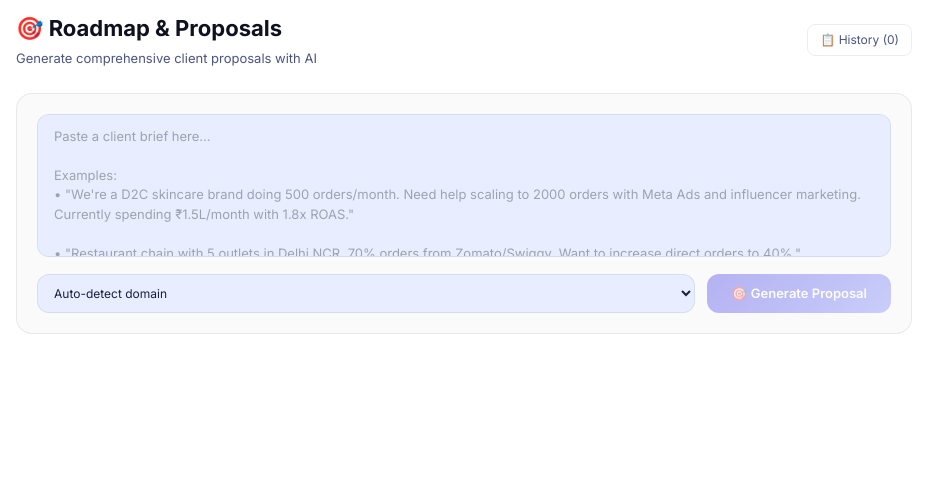
RoadmapTab › proposal generation › displays generated proposal output
Type "Test brief" into the text box with placeholder "Paste a client brief here" at (464, 185), box x1=37 y1=114 x2=891 y2=256
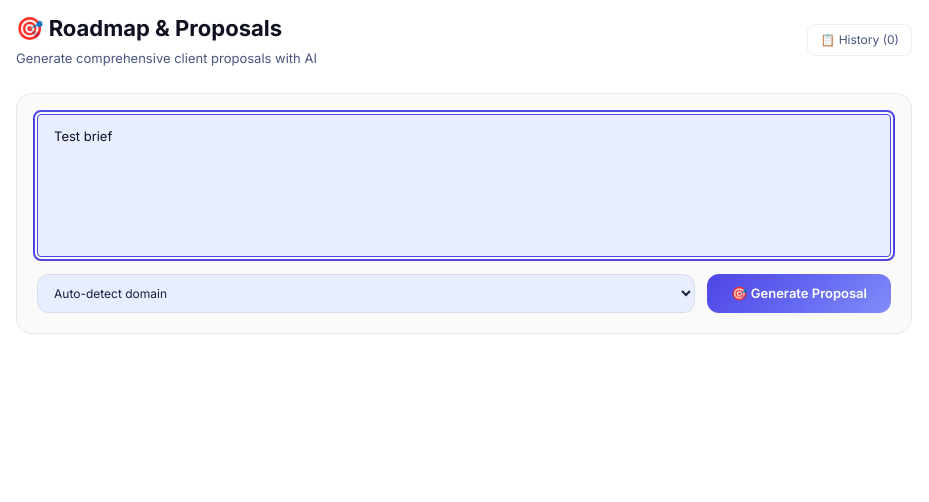
Click the button "🎯 Generate Proposal" at (799, 293), box x1=707 y1=274 x2=891 y2=313
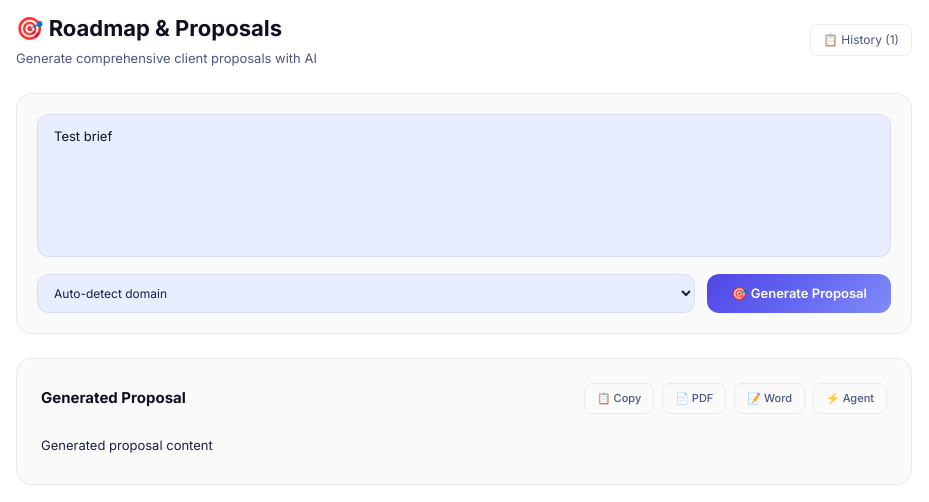
expect the text "Generated proposal content" is shown: met, box x1=41 y1=436 x2=213 y2=452
